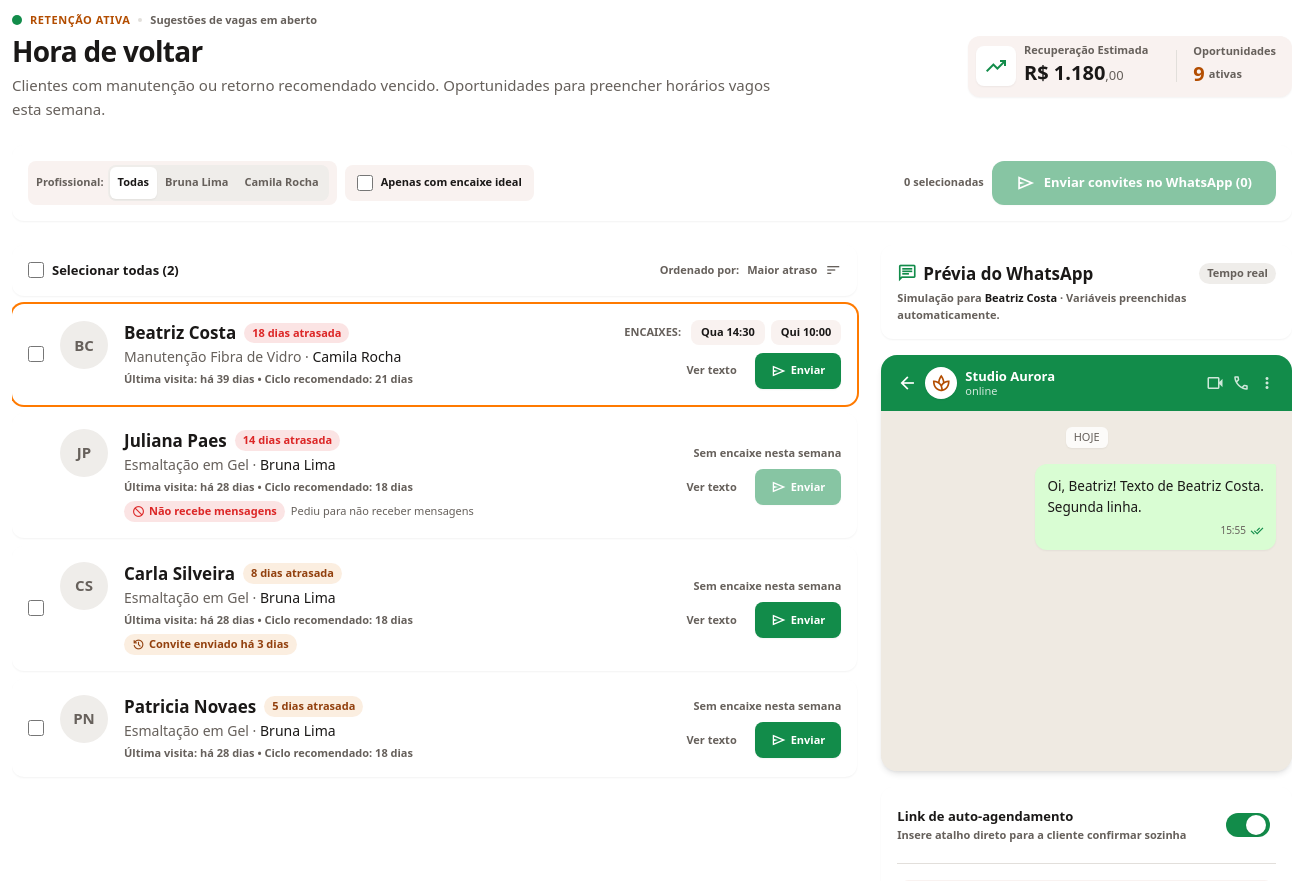
Test: HoraDeVoltar › clicar num cartão troca a cliente da prévia e o texto
Expected: the text "18 dias atrasada" is shown, left=244, top=323, right=350, bottom=343
Expected: the text "Simulação para" shows "Simulação para Beatriz Costa", left=897, top=290, right=1186, bottom=322
Click the text "Patricia Novaes". click: point(190, 706)
box: left=124, top=694, right=256, bottom=718
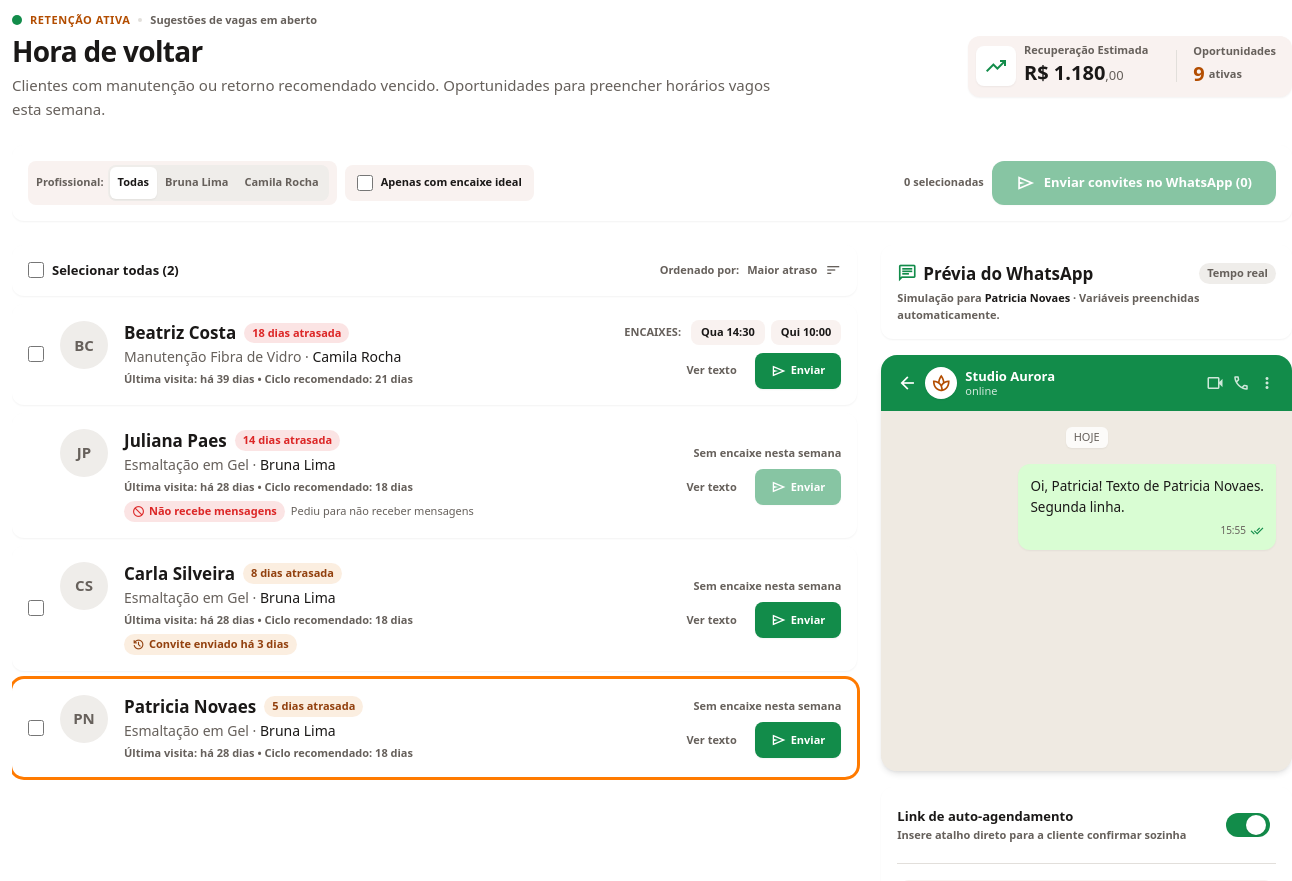
Now the text "Simulação para" shows "Simulação para Patricia Novaes", box left=897, top=290, right=1199, bottom=322
Now the text "Oi, Patricia! Texto de Patricia Novaes. Segunda linha." is shown, box left=1030, top=476, right=1264, bottom=516
Now the text "Texto de Beatriz Costa." is gone
